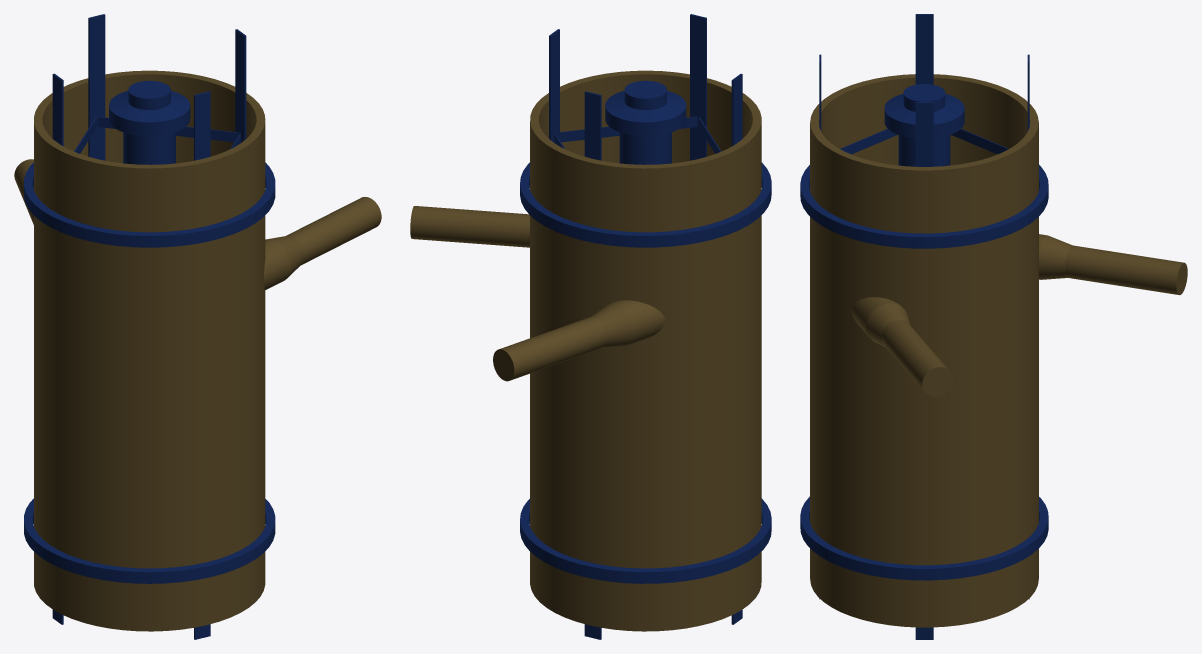
Rendered from Mesh_GreenGym_Tree.FBX.
3 views of the same model, side by side, from view 1: azimuth 30°, elevation 25°; view 2: azimuth 150°, elevation 25°; view 3: azimuth 270°, elevation 25° (orthographic).
Visible parts, largest first — view 1: Mesh_GreenGym_Tree; view 2: Mesh_GreenGym_Tree; view 3: Mesh_GreenGym_Tree.
Boxes of the visible parts, box(x1,y1,x2,y2) form: Mesh_GreenGym_Tree: box(14, 14, 381, 639); Mesh_GreenGym_Tree: box(410, 14, 771, 639); Mesh_GreenGym_Tree: box(800, 14, 1187, 639).
Size of what is drawn, in the model's own units: 324 by 324 by 495.
